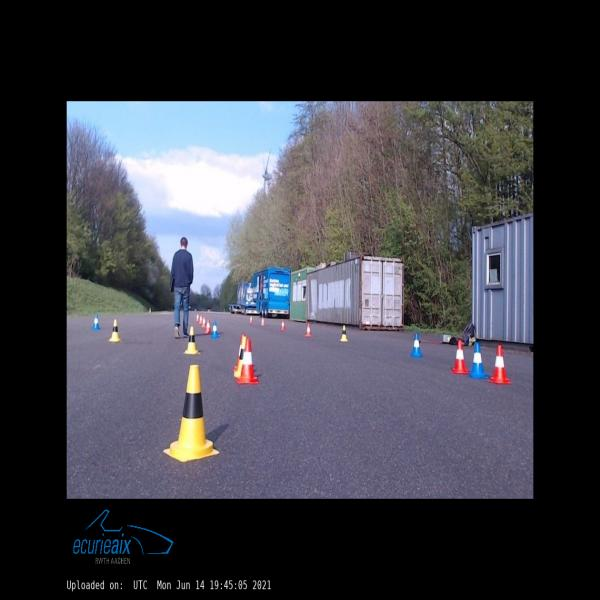blue_cone: (469, 342, 489, 378), (410, 333, 423, 357), (210, 321, 218, 338), (92, 314, 100, 329)
orange_cone: (236, 339, 259, 384), (487, 345, 512, 384), (452, 340, 469, 374), (234, 334, 245, 371), (204, 319, 211, 334), (306, 323, 312, 336), (280, 321, 286, 330), (202, 317, 206, 326), (261, 318, 265, 325), (199, 315, 202, 324), (196, 314, 199, 321), (250, 316, 252, 322)
yellow_cone: (163, 365, 219, 461), (234, 336, 246, 376), (184, 326, 200, 354), (108, 320, 121, 341), (340, 326, 348, 341)
